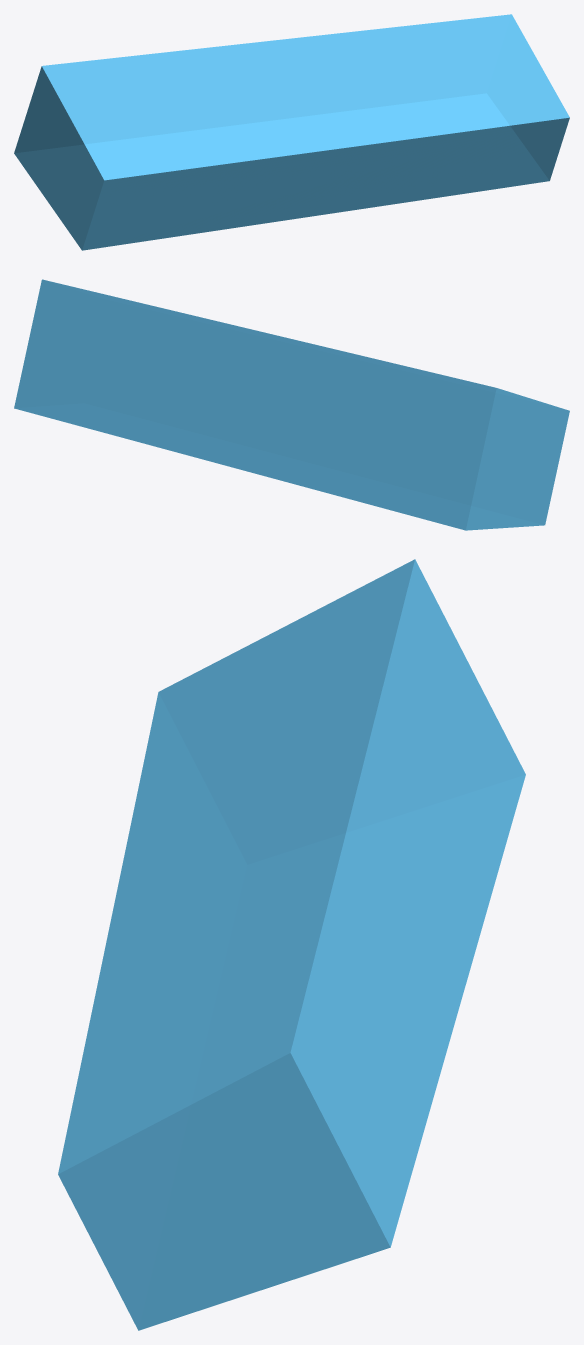
File: Event_421556567_HErechit_22.fbx
3 views of the same model, one above another, from view 1: azimuth 30°, elevation 25°; view 2: azimuth 150°, elevation 25°; view 3: azimuth 270°, elevation 25° (orthographic). The views are drawn at different scales.
Parts seen in each view (by area): view 1: Model; view 2: Model; view 3: Model.
Part boxes in pixels (x1=…): Model: x1=14, y1=14, x2=569, y2=250; Model: x1=14, y1=279, x2=569, y2=530; Model: x1=58, y1=559, x2=525, y2=1330.
Size of the model in its own units: 1.08 by 0.4021 by 0.4968.
